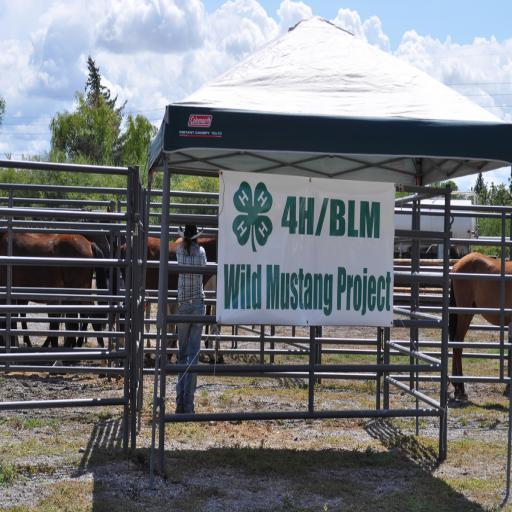horse: (0, 205, 222, 366), (449, 250, 512, 402)
